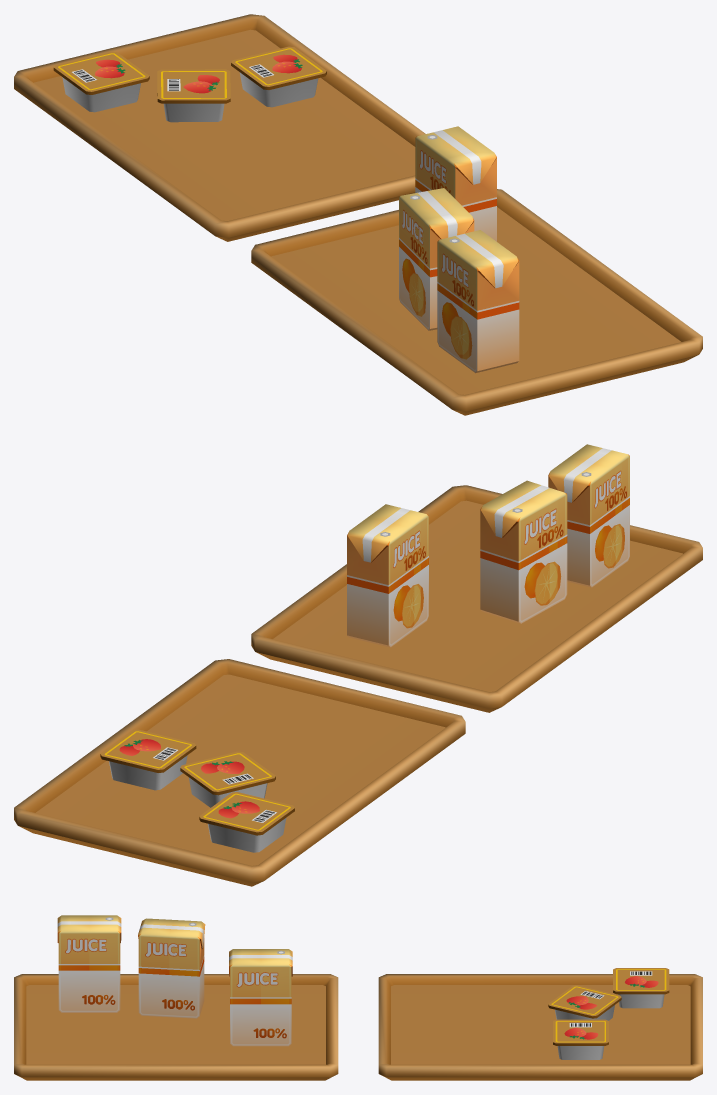
The model's file is CR_caf_Dish_01_Merged.fbx.
3 views of the same model, one above another, from view 1: azimuth 30°, elevation 25°; view 2: azimuth 150°, elevation 25°; view 3: azimuth 270°, elevation 25° (orthographic). The views are drawn at different scales.
Parts seen in each view (by area): view 1: CR_caf_Dish_01_Merged; view 2: CR_caf_Dish_01_Merged; view 3: CR_caf_Dish_01_Merged.
Boxes of the visible parts, x1,y1,x2,y2 form: CR_caf_Dish_01_Merged: [14, 14, 702, 415]; CR_caf_Dish_01_Merged: [14, 444, 702, 886]; CR_caf_Dish_01_Merged: [14, 915, 702, 1080].
Bounding box in the file's own units: 29.18 × 13.9 × 90.52.
